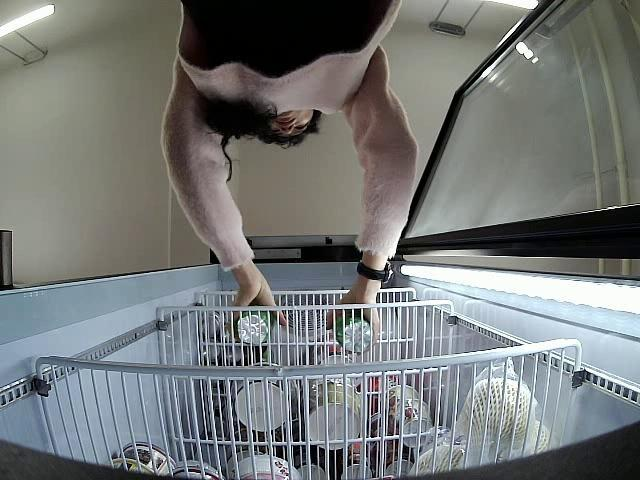18_trevi: (328, 312, 376, 354), (236, 308, 273, 344)
